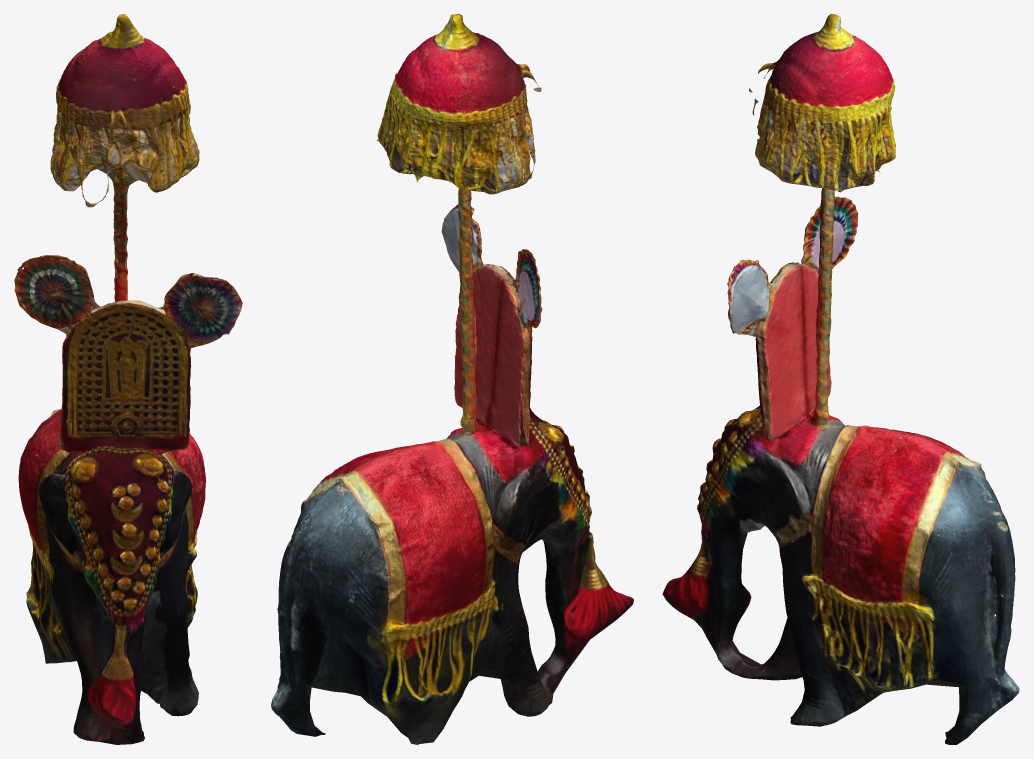
File: elefante.glb
3 renders of one model, left to right at view 1: azimuth 30°, elevation 25°; view 2: azimuth 150°, elevation 25°; view 3: azimuth 270°, elevation 25°, orthographic.
Parts seen in each view (by area): view 1: 00ee997f-b5c5-4d48-af64-fbe0504b4a30; view 2: 00ee997f-b5c5-4d48-af64-fbe0504b4a30; view 3: 00ee997f-b5c5-4d48-af64-fbe0504b4a30.
Boxes of the visible parts, bbox=[...] form: 00ee997f-b5c5-4d48-af64-fbe0504b4a30: bbox=[14, 14, 242, 744]; 00ee997f-b5c5-4d48-af64-fbe0504b4a30: bbox=[271, 14, 633, 744]; 00ee997f-b5c5-4d48-af64-fbe0504b4a30: bbox=[662, 14, 1019, 744].
Size of the model in its own units: 0.1195 by 0.377 by 0.1769.
1 material, 1 textured.
